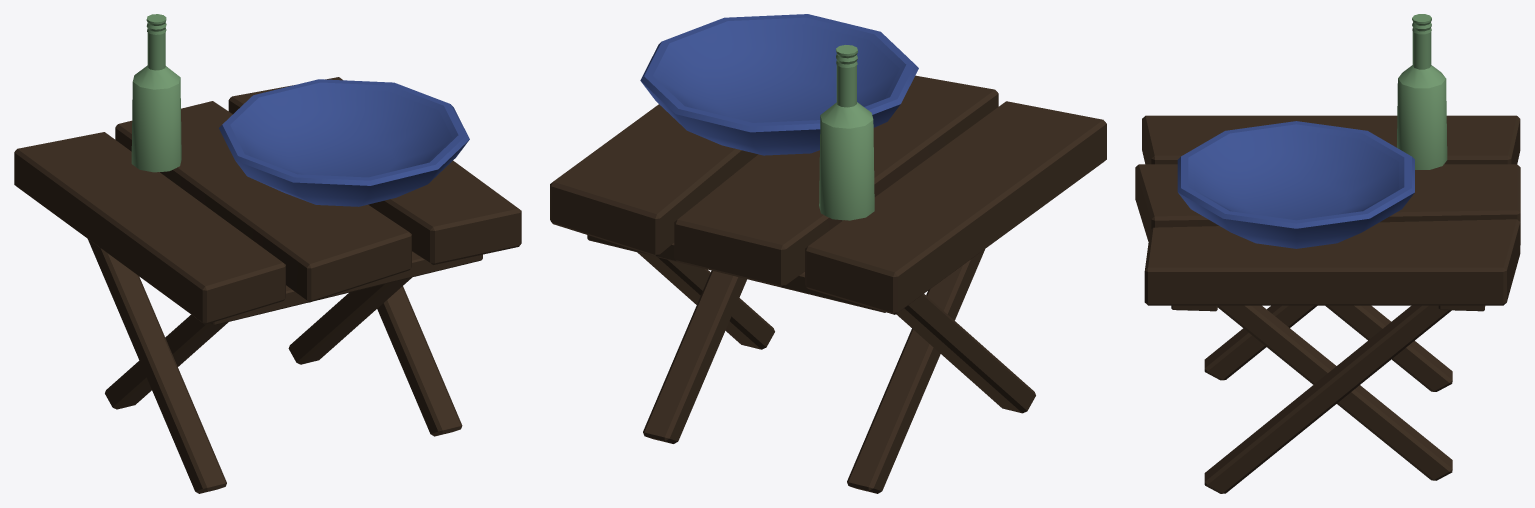
Rendered from SM_Table.fbx.
3 renders of one model, left to right at view 1: azimuth 30°, elevation 25°; view 2: azimuth 150°, elevation 25°; view 3: azimuth 270°, elevation 25°, orthographic. The views are drawn at different scales.
Visible parts, largest first — view 1: Object001; view 2: Object001; view 3: Object001.
Boxes of the visible parts, x1,y1,x2,y2 form: Object001: (14, 14, 521, 493); Object001: (550, 14, 1106, 493); Object001: (1135, 14, 1520, 493).
Size of the model in its own units: 228 by 257 by 235.
